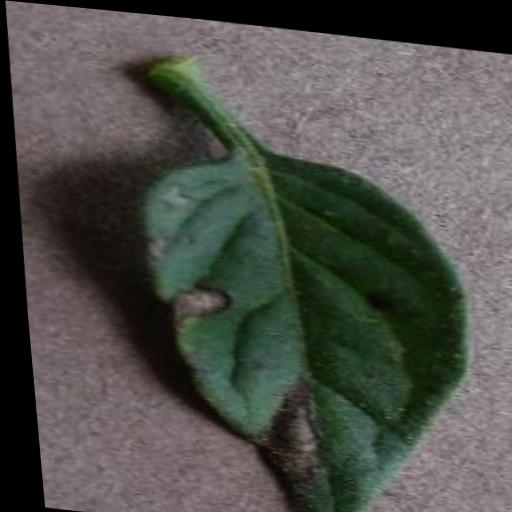Early Blight: (128, 121, 482, 512)
